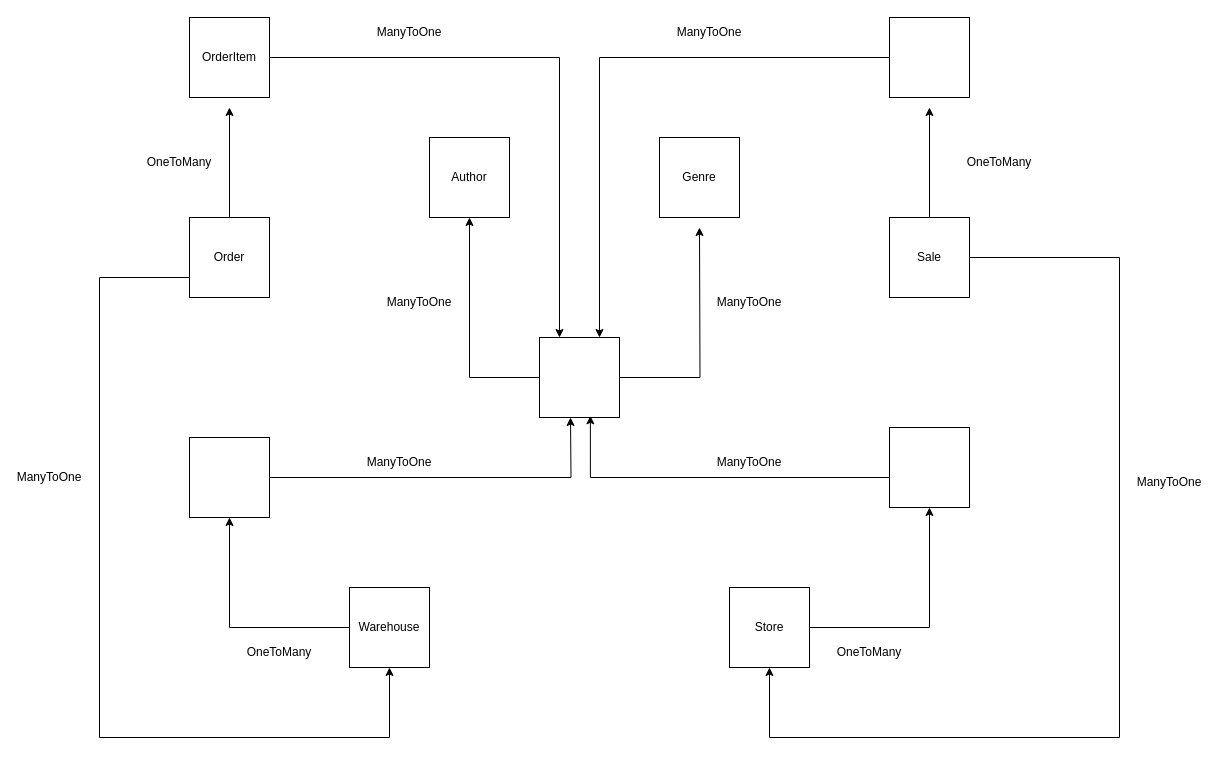
This 1219x763 diagram has some shape labels left out. The centre of each missing label's shape, as x and y in pixels:
Book: (579,377)
SaleItem: (929,57)
StoreBookAmount: (929,467)
WarehouseBookAmount: (229,477)
